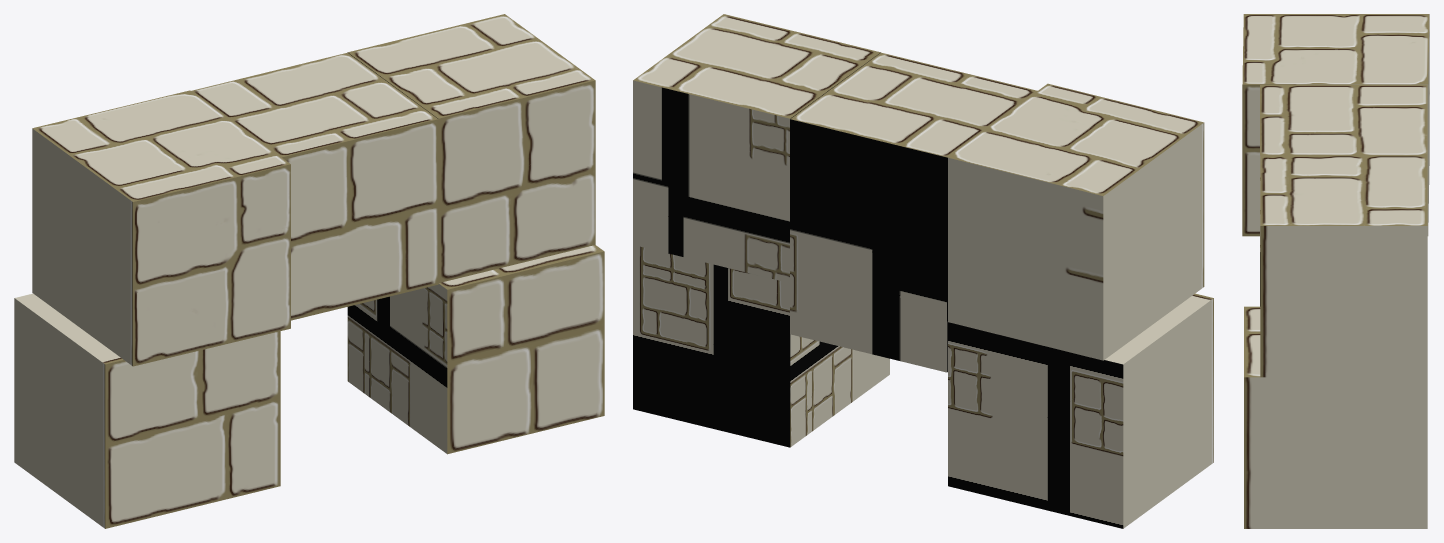
File: Goal_Platform.fbx
3 views of the same model, side by side, from view 1: azimuth 30°, elevation 25°; view 2: azimuth 150°, elevation 25°; view 3: azimuth 270°, elevation 25° (orthographic). The views are drawn at different scales.
Visible parts, largest first — view 1: polySurface50; view 2: polySurface50; view 3: polySurface50.
Boxes of the visible parts, bbox=[...] form: polySurface50: bbox=[14, 14, 604, 528]; polySurface50: bbox=[633, 14, 1213, 528]; polySurface50: bbox=[1242, 14, 1429, 528].
Bounding box in the file's own units: 3.12 × 2 × 1.12.
